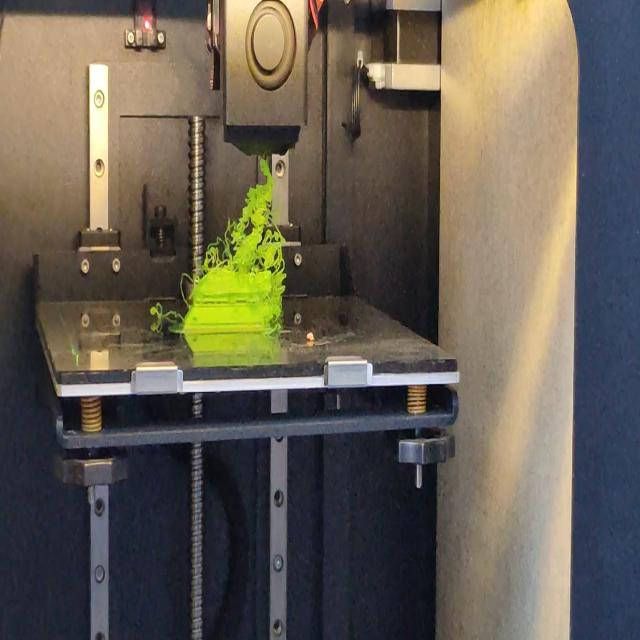spaghetti: (191, 160, 289, 276), (274, 274, 288, 332), (149, 306, 185, 324), (179, 270, 190, 308)
